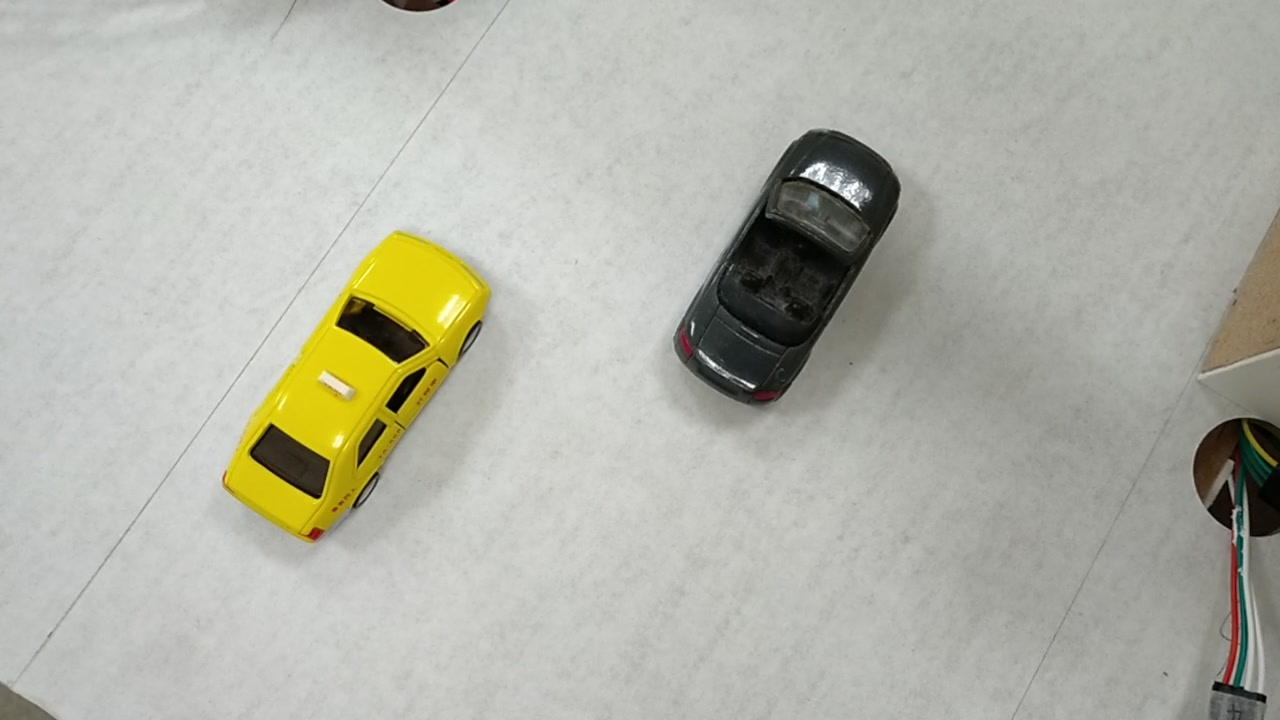car: (221, 245, 483, 539), (678, 139, 893, 394)
